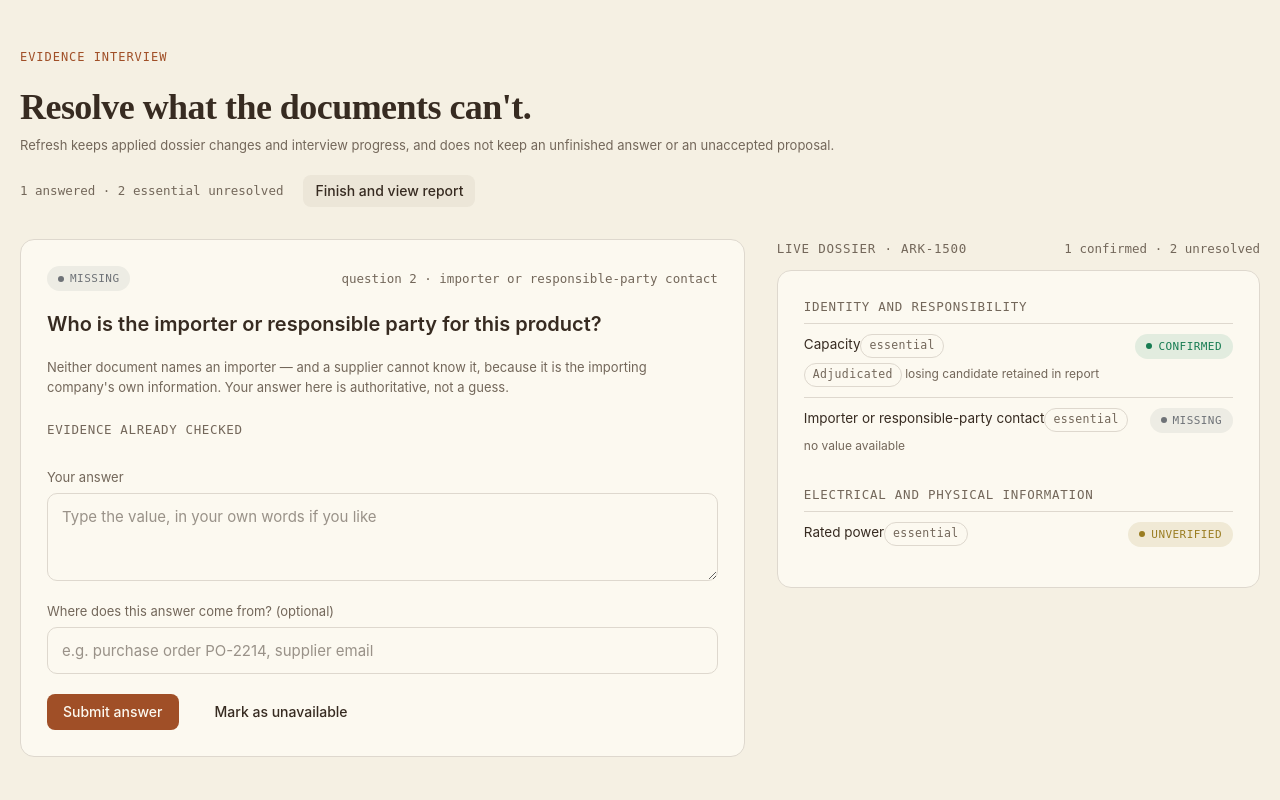
Test case: InterviewWorkspace interpretation › shows the server message and one-field sentence for out-of-credits
This screenshot has width=1280, height=800.
In the text box labelled "Your answer": x=382, y=537 left=47, top=493, right=718, bottom=581, type "Acme Imports GmbH — rated power should be 2200 W"
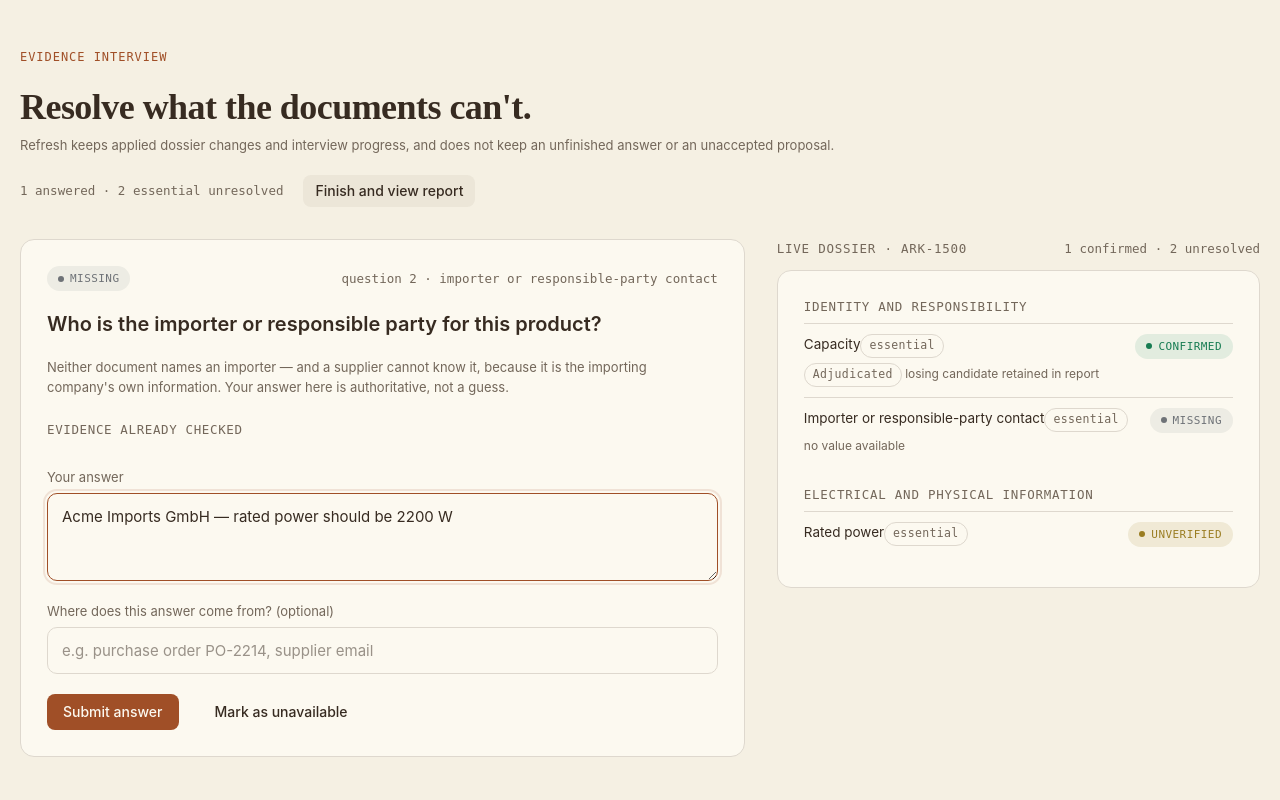
Click the button "Submit answer": x=113, y=712 left=47, top=694, right=178, bottom=730
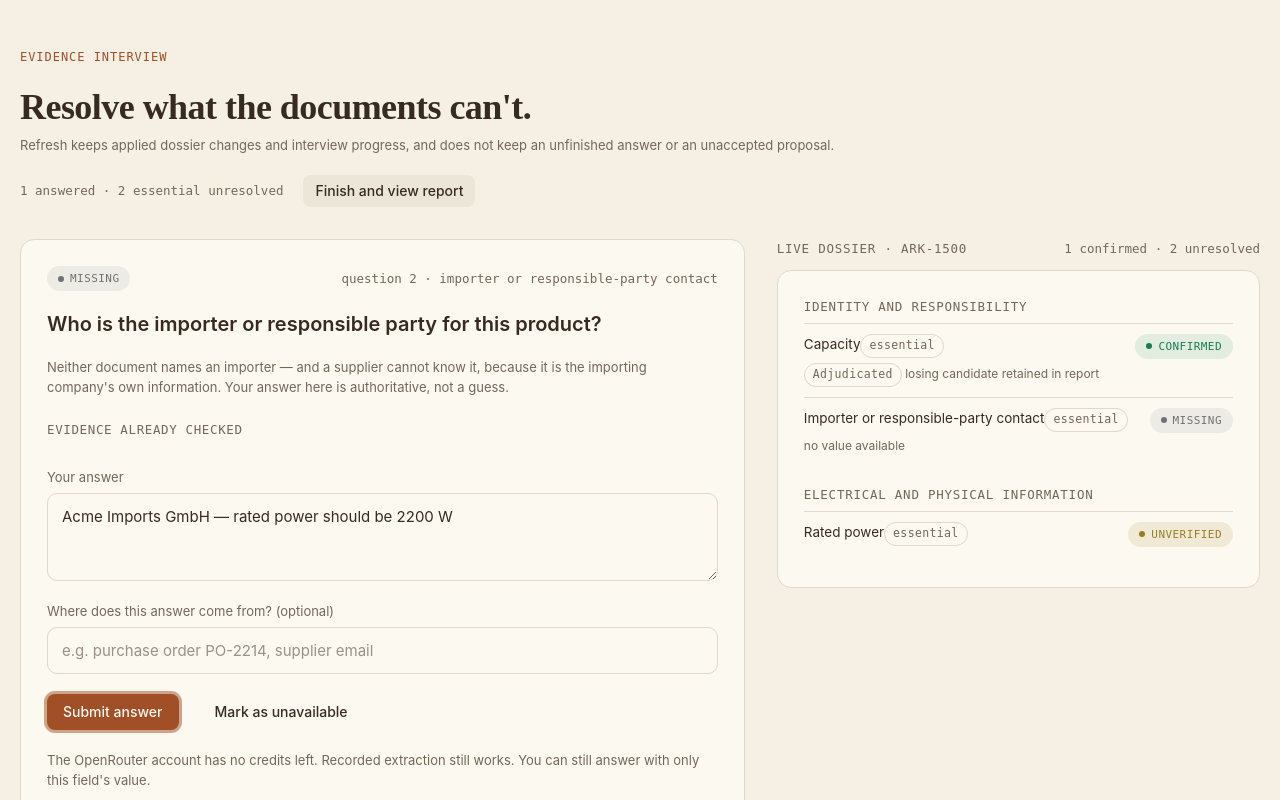
Expected: the message shows "The OpenRouter account has no credits left. Recorded extraction still works.", left=47, top=752, right=699, bottom=788
Expected: the message shows "You can still answer with only this field's value.", left=47, top=752, right=699, bottom=788
